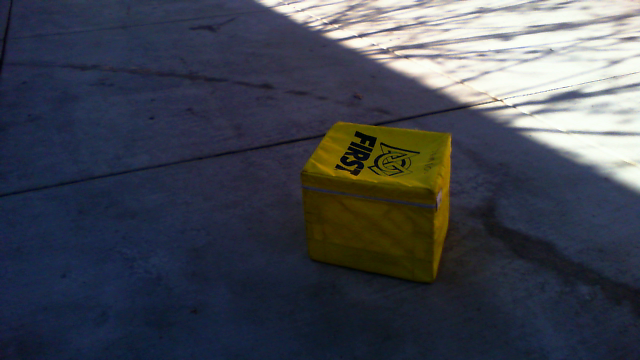cube: (299, 121, 451, 282)
